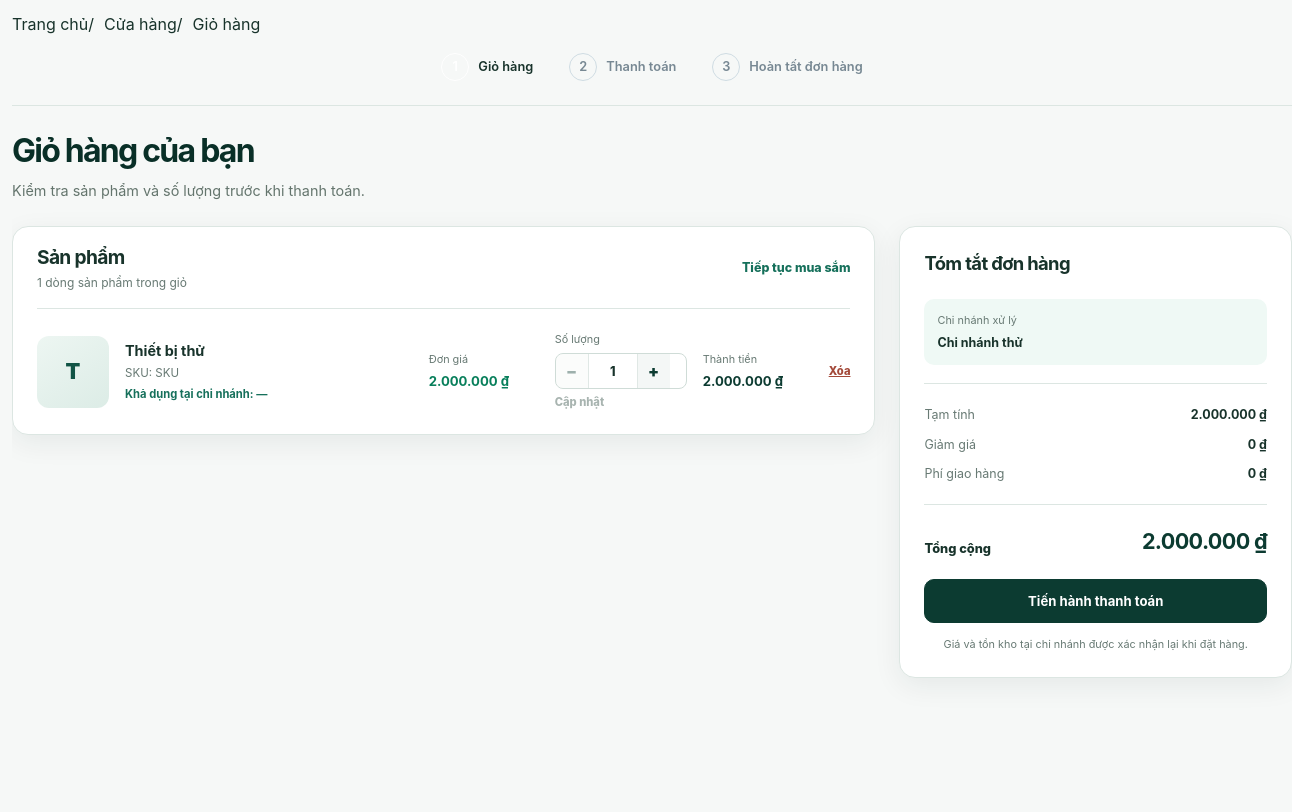
changes quantities and deletes cart items with confirmation
Replace the text in the number field named "Số lượng SKU" with "3" at [613, 371], box [588,354,638,388]
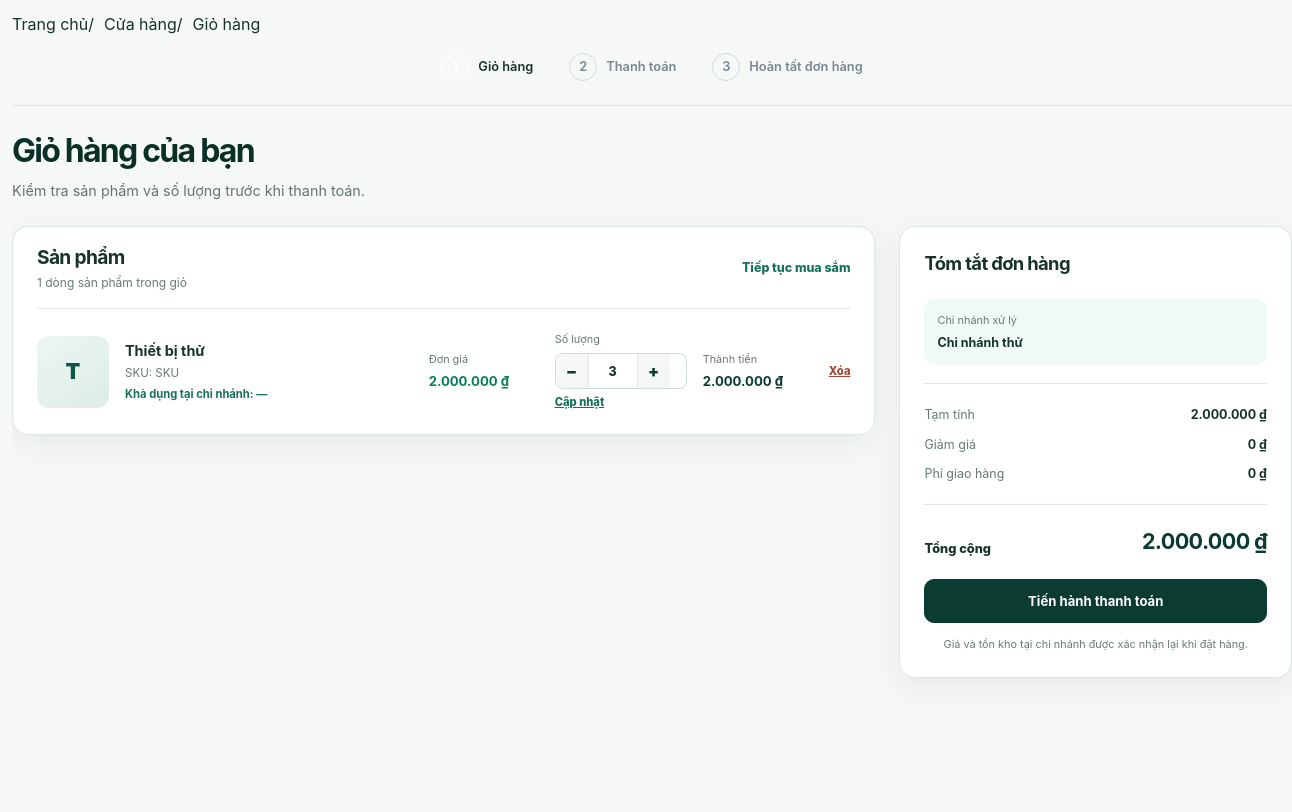
Click the button "Cập nhật" at [580, 403], box [555,394,604,412]
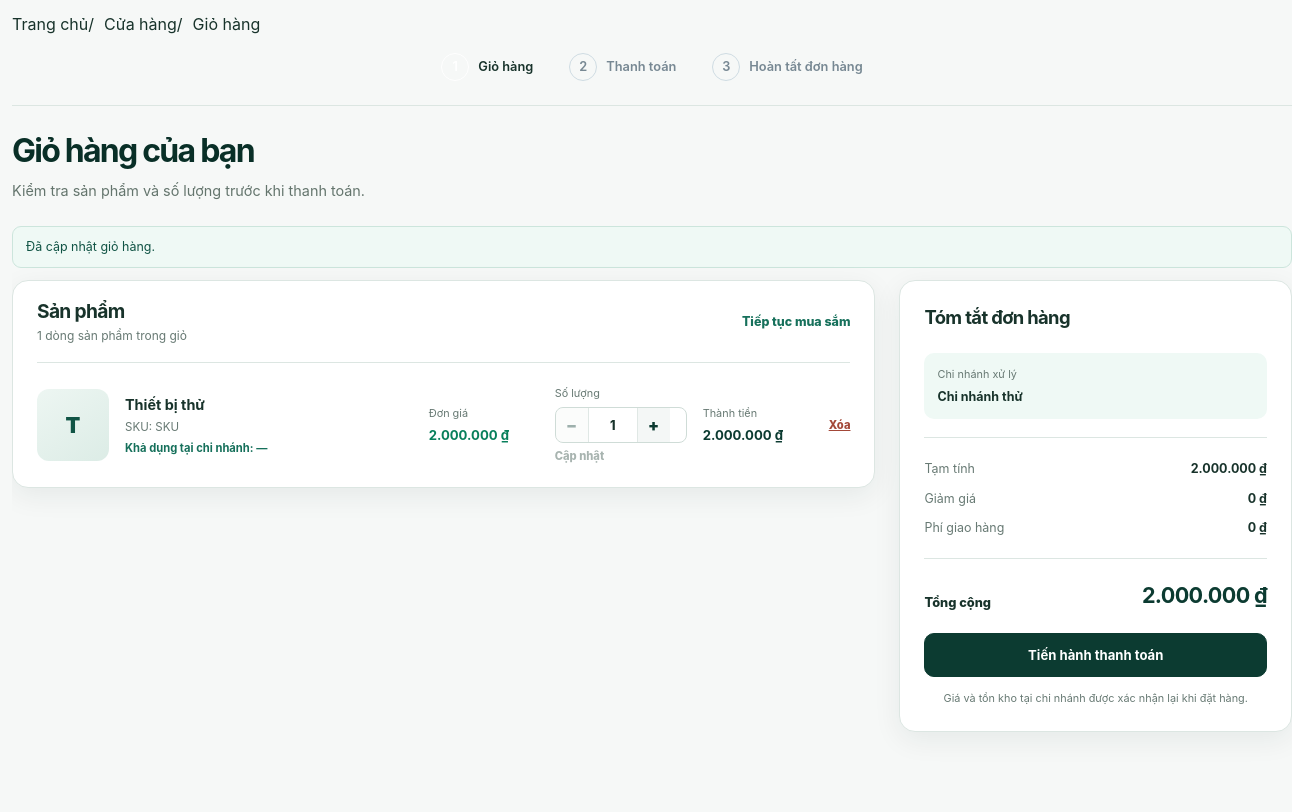
Click the button "Xóa" at [840, 425], box [829,417,850,434]
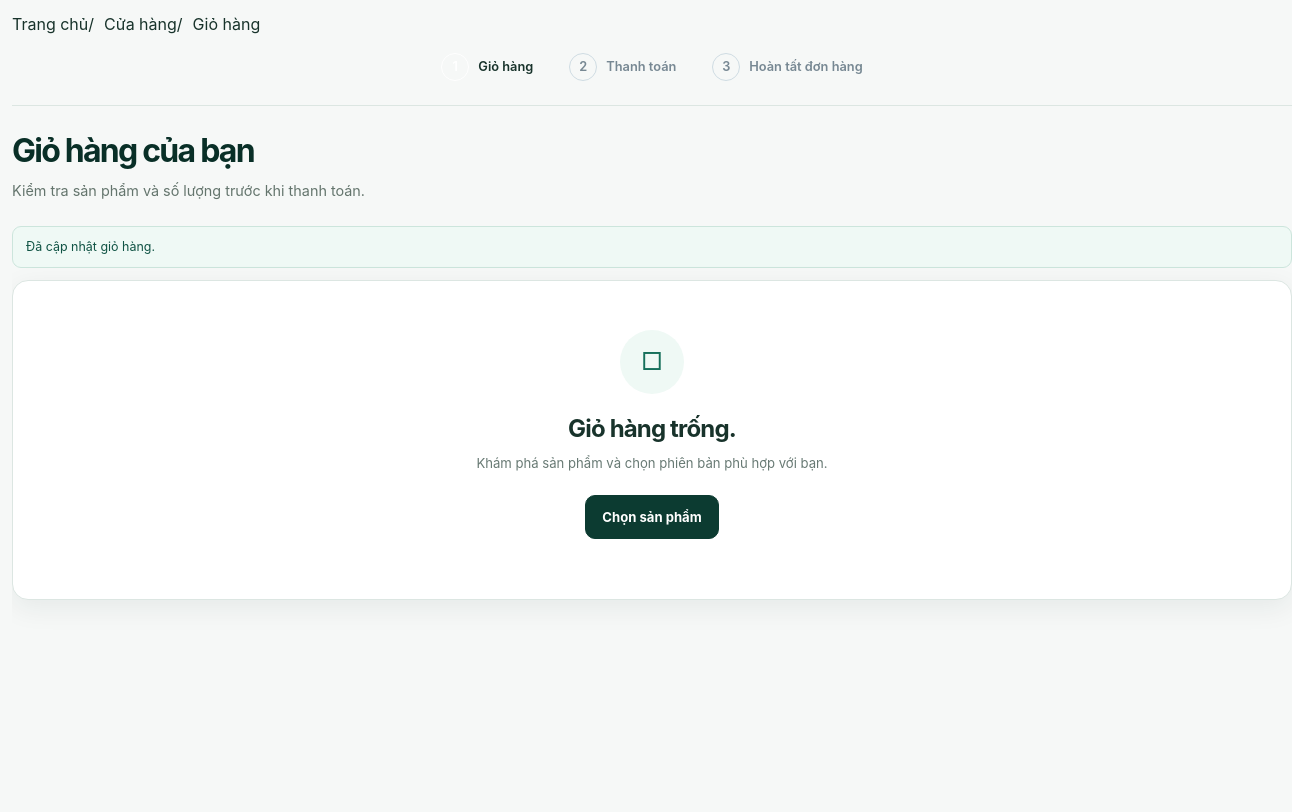
Expected: the heading "Giỏ hàng trống." is shown, [568,412,736,445]
